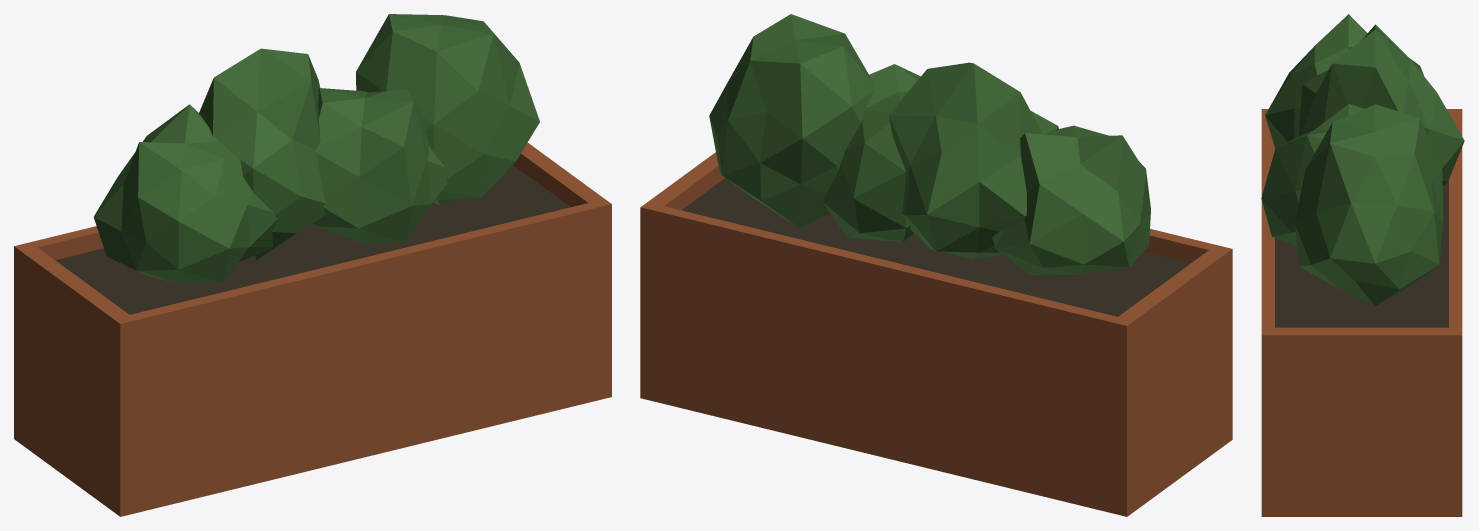
The picture shows the model from 3 angles, left to right: view 1: azimuth 30°, elevation 25°; view 2: azimuth 150°, elevation 25°; view 3: azimuth 270°, elevation 25°; orthographic projection. The views are drawn at different scales.
Parts seen in each view (by area): view 1: Planter, Plants, Soil; view 2: Planter, Plants, Soil; view 3: Planter, Plants, Soil.
Boxes of the visible parts, x1,y1,x2,y2 form: Planter: (14, 142, 611, 516); Plants: (93, 14, 539, 284); Soil: (55, 165, 570, 314); Planter: (640, 152, 1232, 516); Plants: (709, 14, 1150, 274); Soil: (681, 178, 1191, 316); Planter: (1261, 109, 1462, 516); Plants: (1261, 14, 1464, 305); Soil: (1275, 148, 1448, 327).
Size of the model in its own units: 1.2 by 0.8756 by 0.4564.
